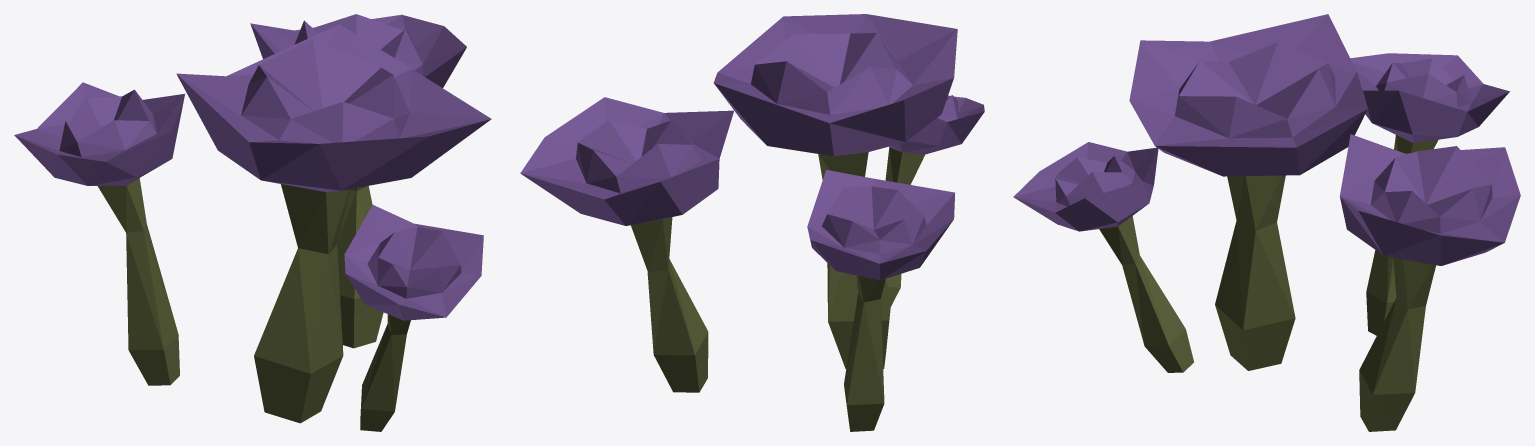
Rendered from SM_Env_Flower_07.glb.
3 views of the same model, side by side, from view 1: azimuth 30°, elevation 25°; view 2: azimuth 150°, elevation 25°; view 3: azimuth 270°, elevation 25° (orthographic). The views are drawn at different scales.
Visible parts, largest first — view 1: SM_Env_Flower_07; view 2: SM_Env_Flower_07; view 3: SM_Env_Flower_07.
Boxes of the visible parts, x1,y1,x2,y2 form: SM_Env_Flower_07: (14,14,491,431); SM_Env_Flower_07: (520,14,984,431); SM_Env_Flower_07: (1013,14,1520,431).
Bounding box in the file's own units: 4.79 × 3.77 × 5.35.
Materials: 1 (1 with a texture image).
